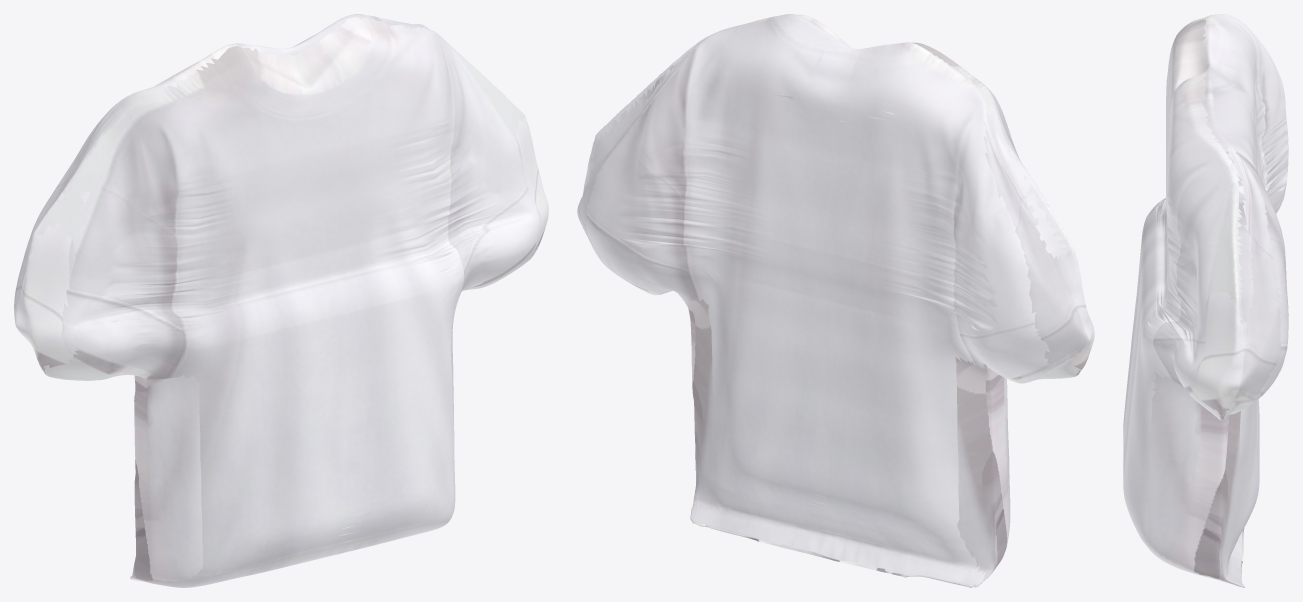
The model's file is NF005-fit-v5.glb.
The picture shows the model from 3 angles, left to right: view 1: azimuth 30°, elevation 25°; view 2: azimuth 150°, elevation 25°; view 3: azimuth 270°, elevation 25°; orthographic projection. The views are drawn at different scales.
Parts seen in each view (by area): view 1: NF005_worn_photo_fitted; view 2: NF005_worn_photo_fitted; view 3: NF005_worn_photo_fitted.
Boxes of the visible parts, box(x1,y1,x2,y2) form: NF005_worn_photo_fitted: box(14, 14, 548, 587); NF005_worn_photo_fitted: box(577, 14, 1094, 587); NF005_worn_photo_fitted: box(1123, 14, 1288, 587).
Size of the model in its own units: 0.6484 by 0.628 by 0.1958.
Materials: 3 (3 with a texture image).
